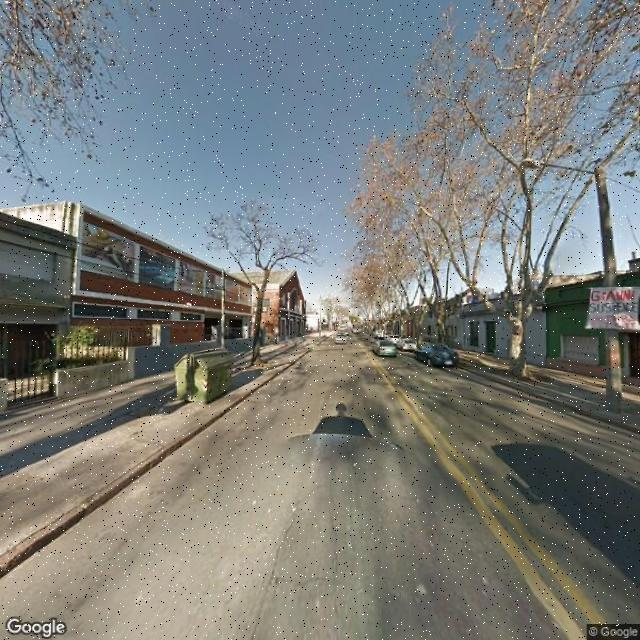garbage container: (165, 340, 242, 413)
